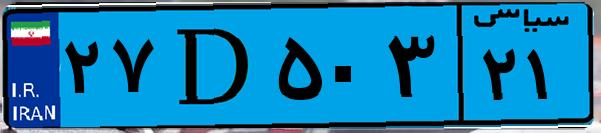0: (330, 28, 385, 110)
1: (525, 38, 570, 115)
2: (57, 26, 110, 100), (475, 38, 525, 113)
3: (385, 28, 445, 110)
5: (270, 28, 330, 110)
7: (110, 28, 158, 98)
D: (158, 12, 270, 120)
